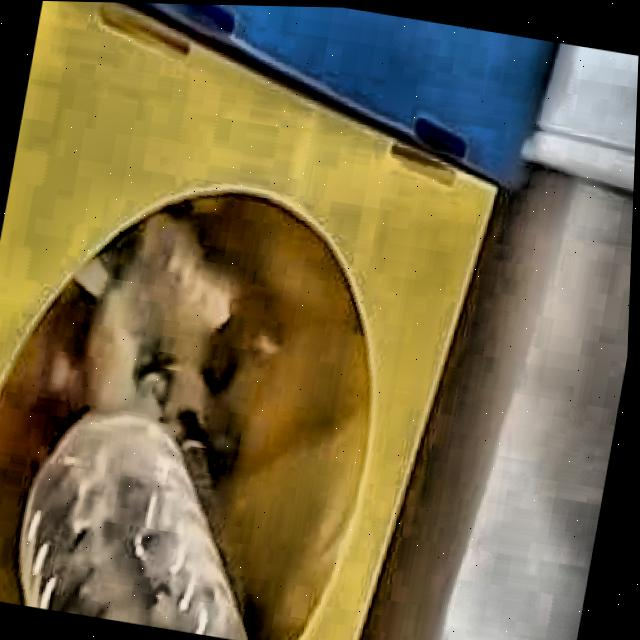plastic: (21, 412, 249, 640)
